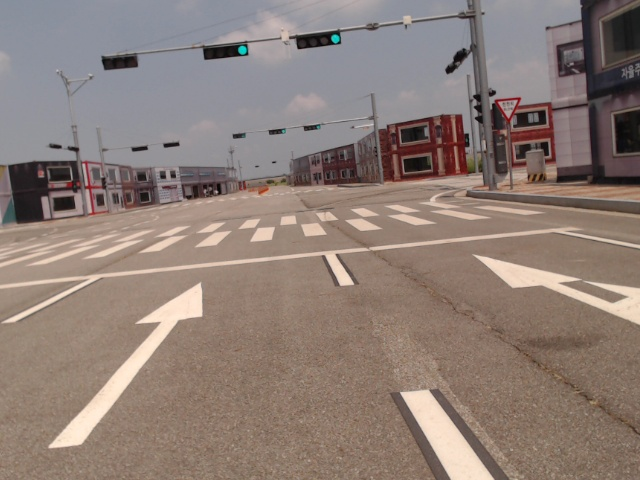straight_green_4: (299, 32, 341, 49), (204, 45, 250, 59), (270, 127, 287, 136), (304, 124, 320, 132)
